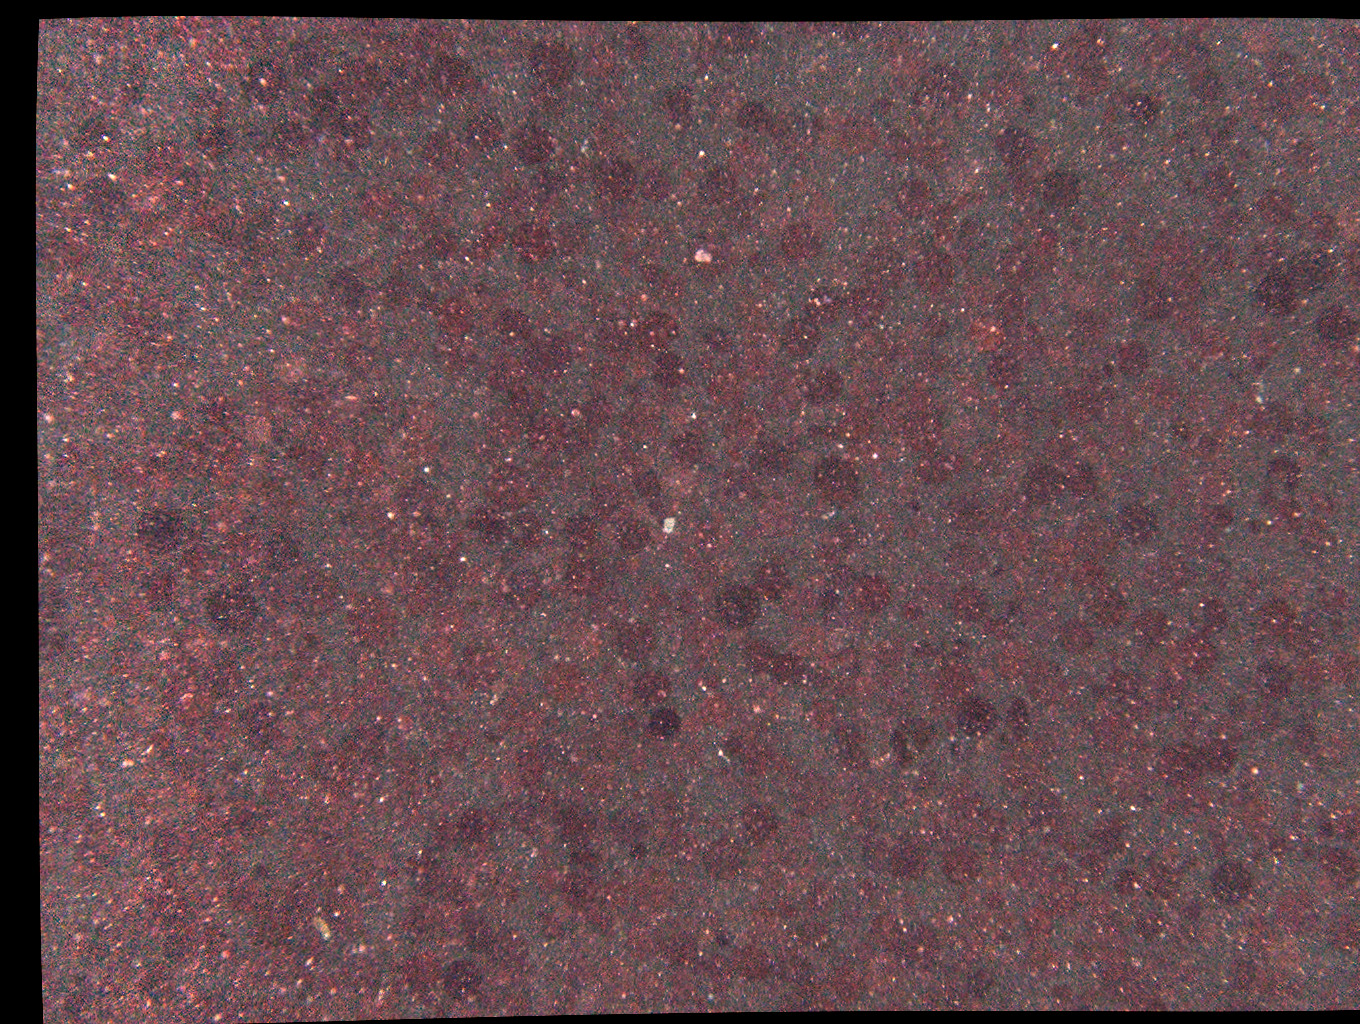Substrate A: (81, 38, 88, 49)
sand dollar: (1083, 712, 1127, 758), (988, 636, 1030, 684), (638, 309, 682, 354), (718, 407, 762, 452), (705, 358, 749, 403), (738, 324, 782, 369), (782, 316, 826, 361), (802, 279, 846, 324), (720, 142, 764, 187), (788, 215, 832, 260), (634, 223, 678, 268), (599, 203, 643, 248), (554, 209, 598, 254), (571, 382, 615, 427), (566, 415, 610, 460), (518, 417, 562, 463), (510, 376, 554, 422), (484, 350, 528, 395), (467, 108, 511, 153), (514, 126, 558, 171), (587, 122, 631, 167), (698, 166, 742, 211), (632, 166, 676, 211), (549, 143, 593, 188), (475, 218, 519, 264), (491, 186, 535, 231), (584, 346, 628, 392), (662, 343, 706, 388), (284, 203, 328, 248), (432, 329, 476, 374), (274, 360, 318, 406), (346, 322, 390, 367), (271, 296, 315, 341), (334, 264, 378, 309), (438, 221, 482, 266), (409, 165, 453, 210), (354, 174, 398, 219), (323, 109, 367, 154), (370, 81, 414, 126), (262, 33, 306, 79), (131, 210, 175, 255), (161, 167, 205, 212), (117, 172, 161, 217), (306, 83, 350, 128), (230, 59, 274, 104), (58, 104, 102, 150), (70, 173, 114, 218), (141, 142, 185, 187), (414, 626, 458, 671), (467, 652, 511, 697), (592, 70, 636, 115), (530, 42, 574, 87), (412, 14, 456, 59), (361, 35, 405, 81), (648, 696, 692, 741), (547, 654, 591, 699), (182, 678, 226, 723), (286, 439, 330, 484), (415, 547, 459, 593), (355, 600, 399, 645), (616, 522, 660, 567), (579, 487, 624, 532), (569, 556, 613, 601), (550, 513, 595, 558), (134, 450, 178, 495), (239, 399, 283, 444), (393, 401, 438, 446), (492, 464, 536, 509), (393, 486, 438, 531), (205, 456, 249, 501), (248, 570, 292, 615), (253, 528, 297, 573), (220, 529, 264, 574), (184, 545, 228, 591), (142, 508, 186, 553), (454, 900, 498, 945), (653, 918, 697, 963), (628, 869, 672, 914), (619, 798, 663, 843), (210, 962, 254, 1007), (499, 935, 543, 980), (270, 881, 314, 926), (386, 851, 430, 896), (123, 963, 167, 1008), (216, 867, 260, 912), (312, 792, 356, 837), (339, 827, 383, 872), (403, 948, 447, 993), (442, 967, 486, 1012), (562, 874, 606, 920), (521, 794, 566, 839), (510, 746, 554, 792), (566, 806, 610, 851), (141, 819, 185, 864), (221, 798, 266, 843), (324, 752, 368, 797), (1142, 751, 1186, 796), (1186, 770, 1230, 815), (1202, 738, 1246, 783), (1165, 743, 1209, 788), (1088, 904, 1132, 949), (964, 879, 1008, 924), (670, 968, 714, 1013), (617, 967, 661, 1012), (729, 938, 773, 983), (863, 954, 907, 999), (906, 923, 950, 968), (869, 905, 913, 950), (928, 796, 972, 841), (936, 850, 980, 895), (873, 838, 917, 883), (736, 796, 781, 841), (782, 592, 826, 637), (738, 572, 782, 617), (792, 769, 836, 814), (813, 655, 857, 700), (732, 695, 776, 740), (690, 686, 734, 731), (775, 648, 819, 693), (829, 741, 873, 786), (883, 713, 927, 758), (959, 695, 1003, 740), (727, 639, 771, 684), (941, 663, 985, 708), (1028, 613, 1072, 658), (1057, 624, 1101, 669), (913, 564, 957, 609), (854, 578, 898, 623), (1145, 899, 1189, 944), (1154, 852, 1198, 897), (1103, 851, 1147, 896), (1102, 947, 1146, 992), (1017, 906, 1061, 951), (1205, 857, 1249, 902), (1083, 808, 1127, 853), (1316, 854, 1360, 899), (1232, 900, 1276, 945), (1282, 884, 1326, 929), (1316, 900, 1360, 945), (1221, 799, 1265, 844), (1090, 670, 1134, 715), (1265, 490, 1309, 536), (1297, 512, 1341, 557), (1286, 615, 1330, 660), (1284, 714, 1328, 759), (1311, 657, 1355, 702), (1256, 611, 1300, 656), (1187, 599, 1231, 644), (1174, 629, 1218, 674), (1131, 663, 1175, 708), (1139, 602, 1183, 648), (1148, 547, 1192, 593), (1110, 506, 1154, 551), (1032, 528, 1076, 573), (1097, 586, 1141, 631), (1068, 551, 1112, 596), (1065, 509, 1110, 554), (732, 494, 776, 539), (706, 463, 750, 508), (667, 470, 711, 515), (663, 429, 707, 474), (661, 381, 705, 426), (813, 457, 857, 502), (612, 401, 656, 446), (1045, 163, 1089, 209), (1114, 211, 1158, 256), (1316, 312, 1360, 357), (1262, 272, 1306, 317), (1307, 250, 1351, 295), (1300, 197, 1344, 242), (1248, 183, 1292, 228), (1308, 57, 1352, 102), (992, 195, 1036, 240), (987, 124, 1031, 169), (1239, 18, 1283, 63), (975, 312, 1019, 357), (928, 296, 972, 341), (960, 272, 1004, 317), (998, 245, 1042, 290), (1169, 44, 1213, 89), (1066, 52, 1111, 97), (1135, 26, 1179, 71), (1117, 73, 1161, 118), (1032, 38, 1076, 83), (976, 70, 1020, 115), (881, 182, 925, 227), (906, 129, 950, 174), (885, 122, 929, 167), (839, 112, 883, 157), (789, 110, 833, 155), (727, 98, 771, 143), (660, 85, 704, 130), (915, 67, 959, 112), (885, 39, 929, 84), (610, 27, 654, 72), (706, 19, 750, 65), (1118, 379, 1162, 424), (1092, 421, 1136, 466), (1045, 383, 1089, 428), (1098, 330, 1142, 375), (1245, 406, 1289, 451), (1175, 315, 1219, 360), (1233, 324, 1277, 369), (1189, 234, 1233, 280), (1170, 264, 1214, 309), (1128, 275, 1172, 321), (1028, 222, 1072, 267), (1017, 313, 1061, 358), (847, 357, 891, 402), (921, 443, 965, 488), (978, 426, 1022, 471), (928, 379, 972, 424), (1178, 381, 1222, 426), (583, 304, 627, 349), (798, 361, 842, 406), (479, 392, 524, 436), (531, 333, 575, 378), (511, 219, 555, 264), (126, 305, 170, 350), (435, 65, 479, 109), (331, 65, 375, 109), (30, 219, 74, 264), (192, 120, 237, 165), (715, 588, 759, 632), (237, 702, 281, 746), (501, 575, 545, 620), (502, 517, 546, 561), (468, 504, 512, 549), (299, 575, 343, 620), (630, 916, 674, 961), (511, 703, 555, 748), (137, 888, 181, 933), (428, 803, 472, 848), (77, 816, 121, 861), (1029, 802, 1073, 847), (1008, 731, 1053, 776), (772, 830, 816, 874), (701, 844, 745, 888), (734, 733, 778, 777), (1030, 660, 1074, 705), (946, 588, 990, 632), (1254, 930, 1298, 975), (1316, 790, 1360, 834), (1251, 659, 1295, 703), (994, 520, 1039, 564), (1068, 463, 1112, 507), (1018, 461, 1062, 506), (1041, 433, 1085, 478), (613, 460, 657, 504), (834, 404, 878, 449), (1140, 221, 1184, 265), (1217, 163, 1261, 208), (1183, 76, 1227, 120), (872, 247, 916, 291), (917, 247, 961, 291), (946, 176, 990, 221), (1302, 419, 1346, 464), (1055, 305, 1099, 350), (910, 362, 954, 407), (781, 179, 824, 224), (493, 300, 536, 345), (522, 267, 566, 312), (595, 166, 638, 211), (536, 172, 579, 217), (450, 286, 493, 331), (380, 272, 423, 317), (423, 128, 466, 173), (194, 199, 237, 244), (264, 114, 307, 159), (636, 664, 679, 709), (609, 623, 652, 668), (194, 648, 237, 693), (393, 429, 436, 474), (250, 481, 294, 526), (207, 584, 250, 629), (409, 847, 452, 892), (466, 798, 509, 843), (350, 725, 393, 770), (824, 963, 867, 1008), (781, 618, 824, 664), (994, 691, 1037, 736), (1223, 948, 1266, 993), (1010, 847, 1053, 892), (1180, 480, 1223, 525), (1182, 526, 1225, 571), (953, 538, 996, 583), (951, 490, 994, 536), (751, 427, 794, 472), (851, 281, 894, 326), (994, 347, 1033, 397), (164, 930, 207, 975), (237, 902, 280, 947), (264, 760, 307, 805), (1252, 446, 1295, 490), (1252, 79, 1295, 123), (894, 403, 937, 447), (1187, 422, 1233, 463), (682, 618, 724, 657), (690, 230, 728, 271)
